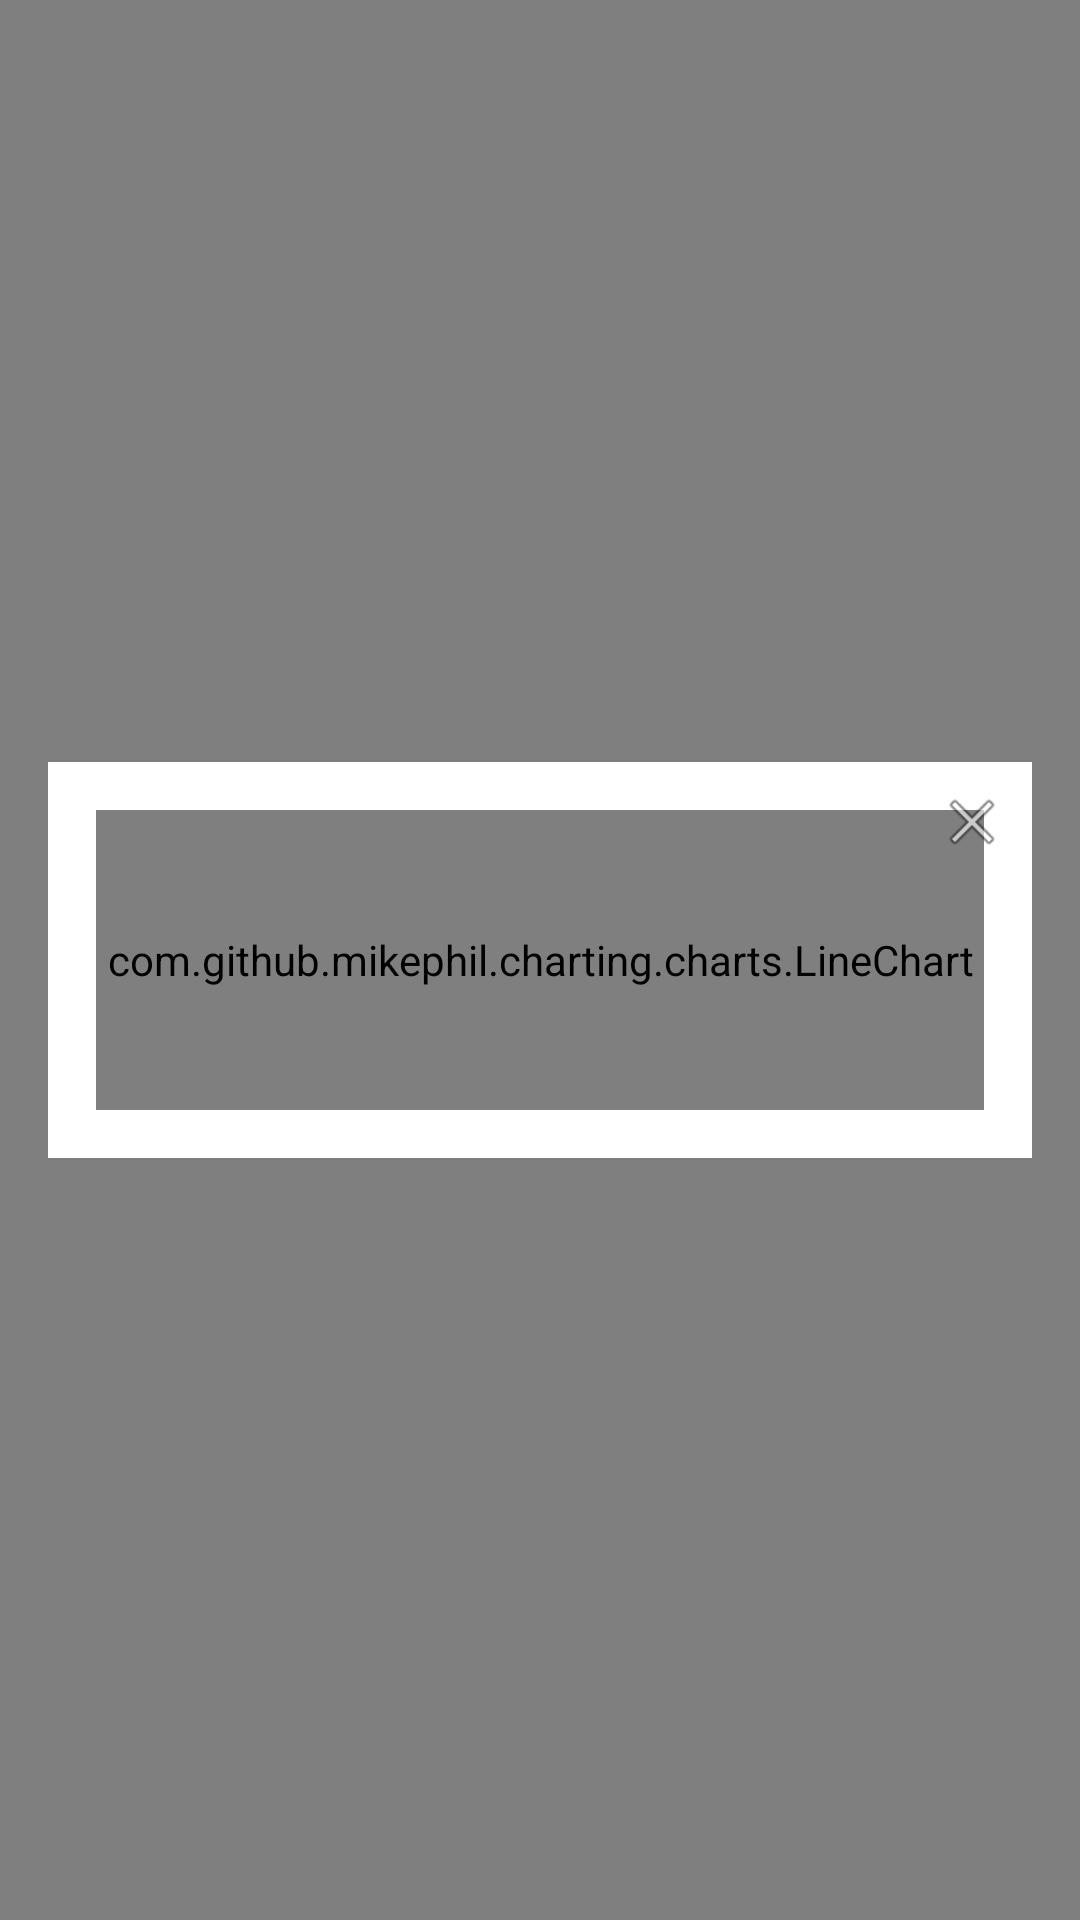

Named icons in this screenshot (1080x1920) and their bounding boxes, (x1, y1, x2, y2):
Close: (936, 799, 995, 858)
